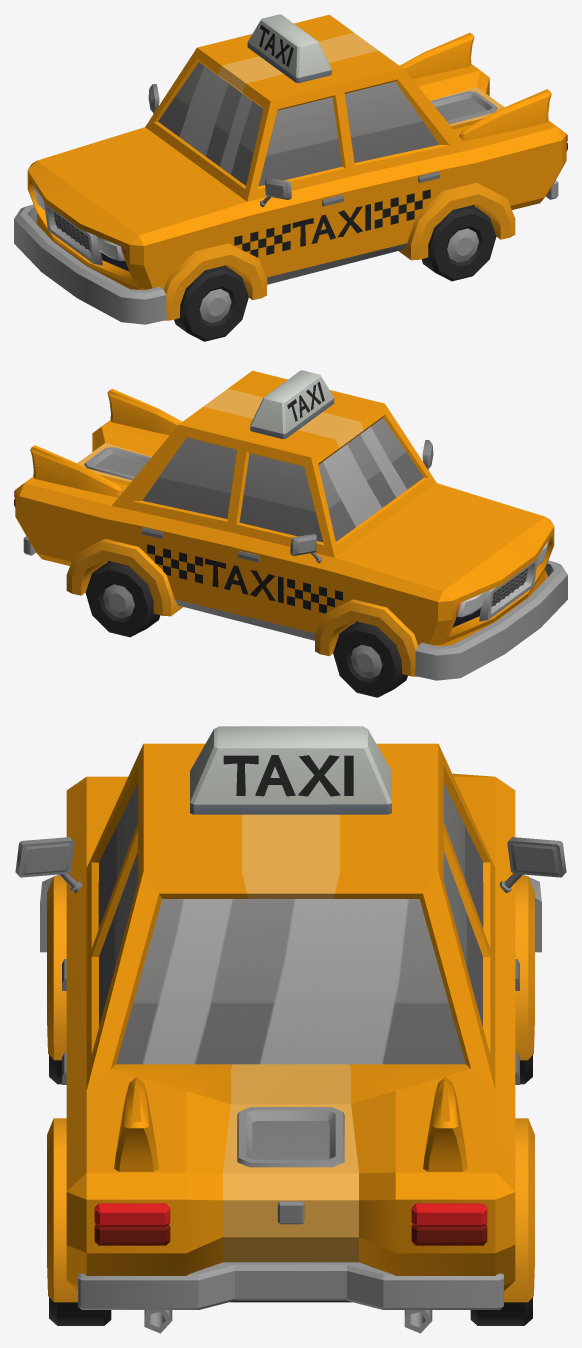
Rendered from Taxi_3.gltf.
The picture shows the model from 3 angles, top to bottom: view 1: azimuth 30°, elevation 25°; view 2: azimuth 150°, elevation 25°; view 3: azimuth 270°, elevation 25°; orthographic projection. The views are drawn at different scales.
Parts seen in each view (by area): view 1: Taxi_3, FL, RL; view 2: Taxi_3, FR, RR; view 3: Taxi_3, RL, RR.
Part boxes in pixels (x1,y1,x2,y2): Taxi_3: [14, 14, 567, 324]; FL: [174, 266, 248, 341]; RL: [421, 205, 496, 281]; Taxi_3: [14, 370, 567, 680]; FR: [333, 622, 407, 697]; RR: [85, 561, 160, 637]; Taxi_3: [15, 726, 566, 1333]; RL: [49, 1297, 111, 1325]; RR: [470, 1297, 532, 1325].
Size of the model in its own units: 3.58 by 1.74 by 1.85.
4 materials, 4 textured.
